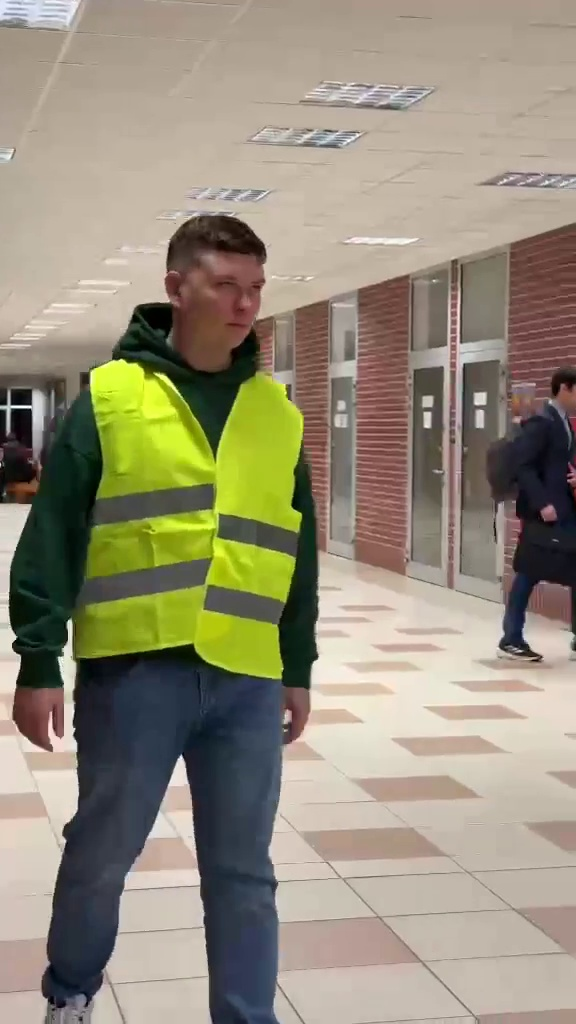no vest: (475, 356, 574, 662)
vest: (23, 206, 304, 996)
